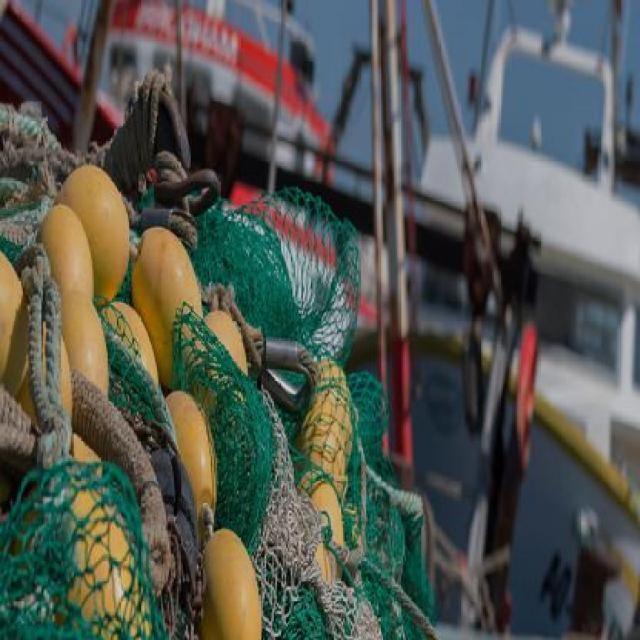buoy: (1, 162, 379, 639)
